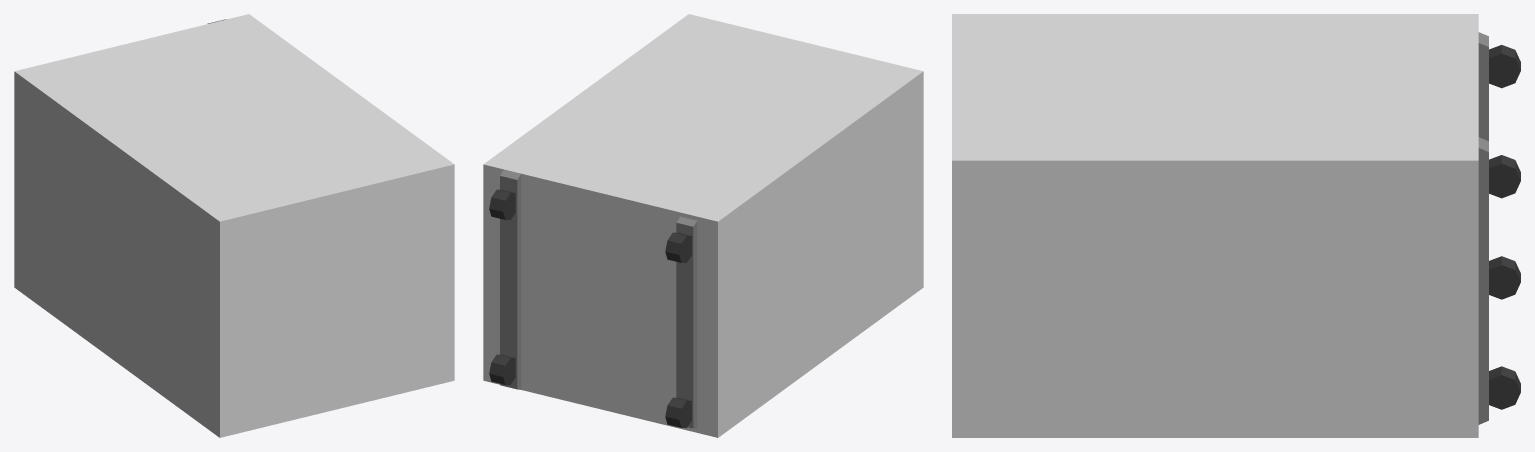
The model's file is Drawer_1.obj.
3 views of the same model, side by side, from view 1: azimuth 30°, elevation 25°; view 2: azimuth 150°, elevation 25°; view 3: azimuth 270°, elevation 25° (orthographic). The views are drawn at different scales.
Visible parts, largest first — view 1: Drawer_1; view 2: Drawer_1; view 3: Drawer_1.
Boxes of the visible parts, x1,y1,x2,y2 form: Drawer_1: (14,14,454,437); Drawer_1: (483,14,923,437); Drawer_1: (952,14,1520,437).
Size of the model in its own units: 0.5599 by 0.4929 by 0.9169.
